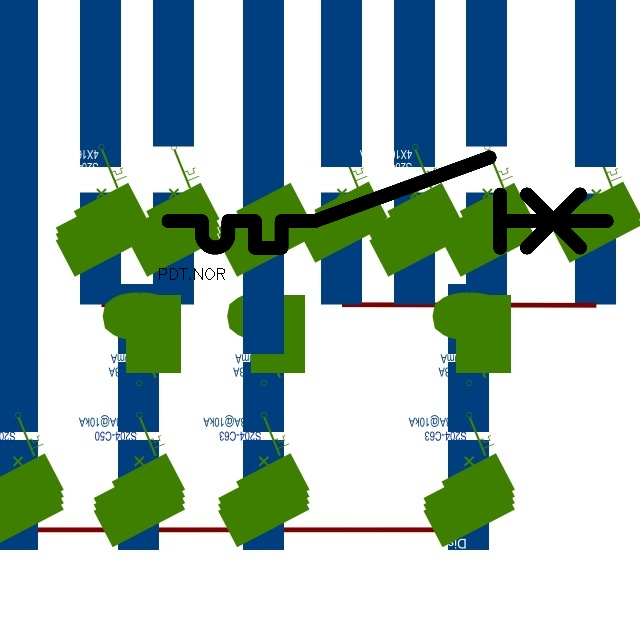interruptor_termomagnetico: (157, 146, 618, 259)
